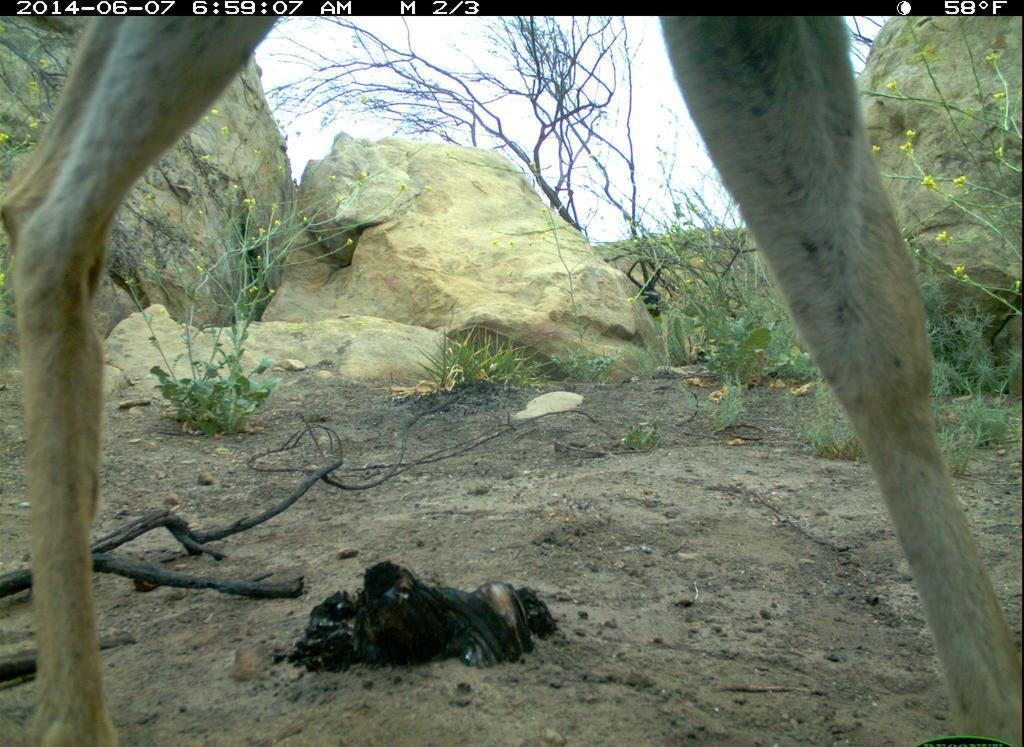deer: (17, 13, 1021, 743)
